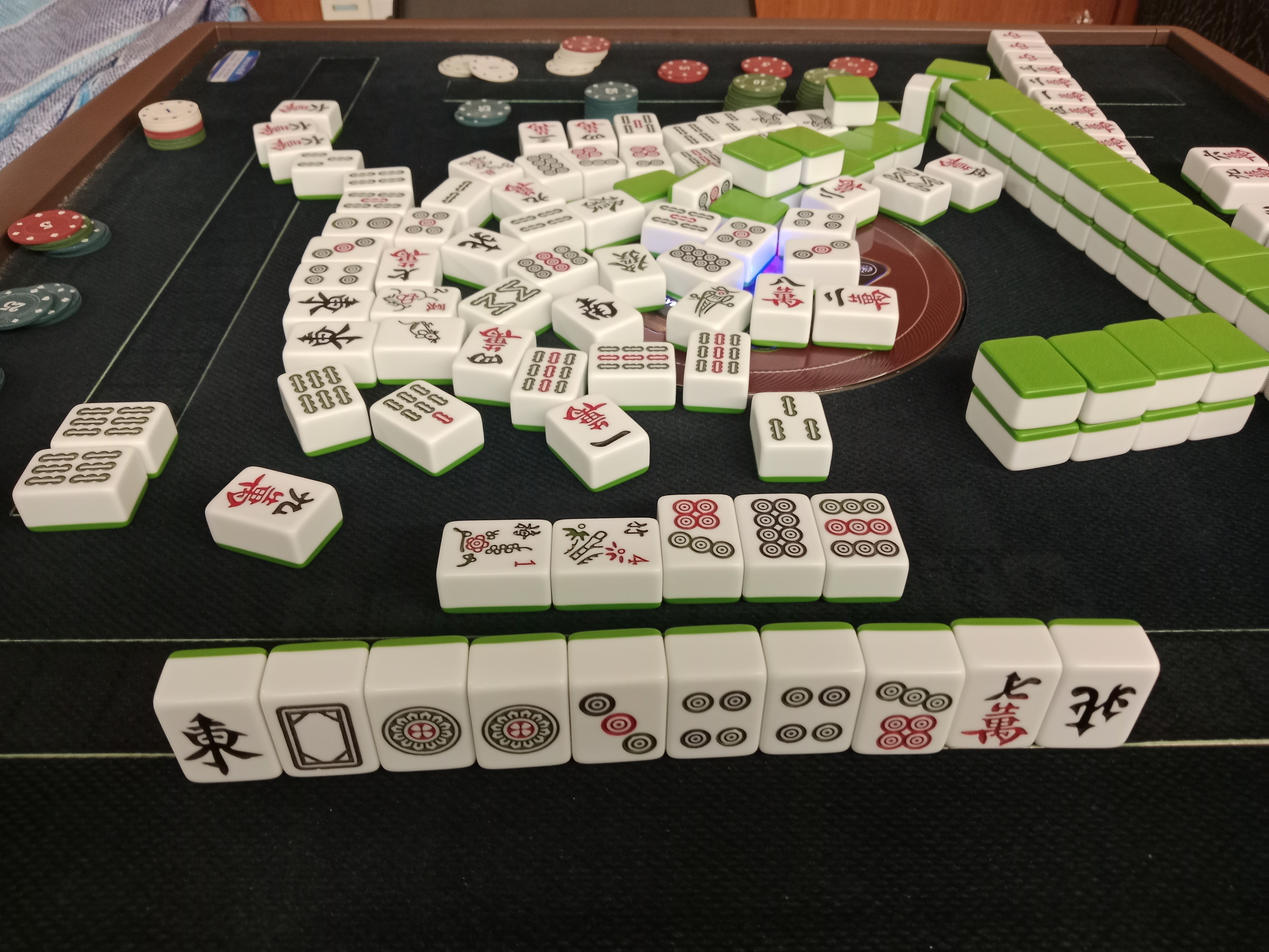TILE: (155, 701, 273, 781), (367, 690, 479, 769), (263, 696, 377, 773), (466, 688, 573, 767), (1048, 671, 1154, 750), (761, 675, 866, 754), (958, 670, 1063, 748), (669, 678, 765, 760), (858, 676, 960, 753), (568, 683, 663, 763), (811, 490, 907, 563), (434, 520, 551, 573), (736, 492, 820, 563), (552, 518, 660, 570), (659, 496, 740, 562)
